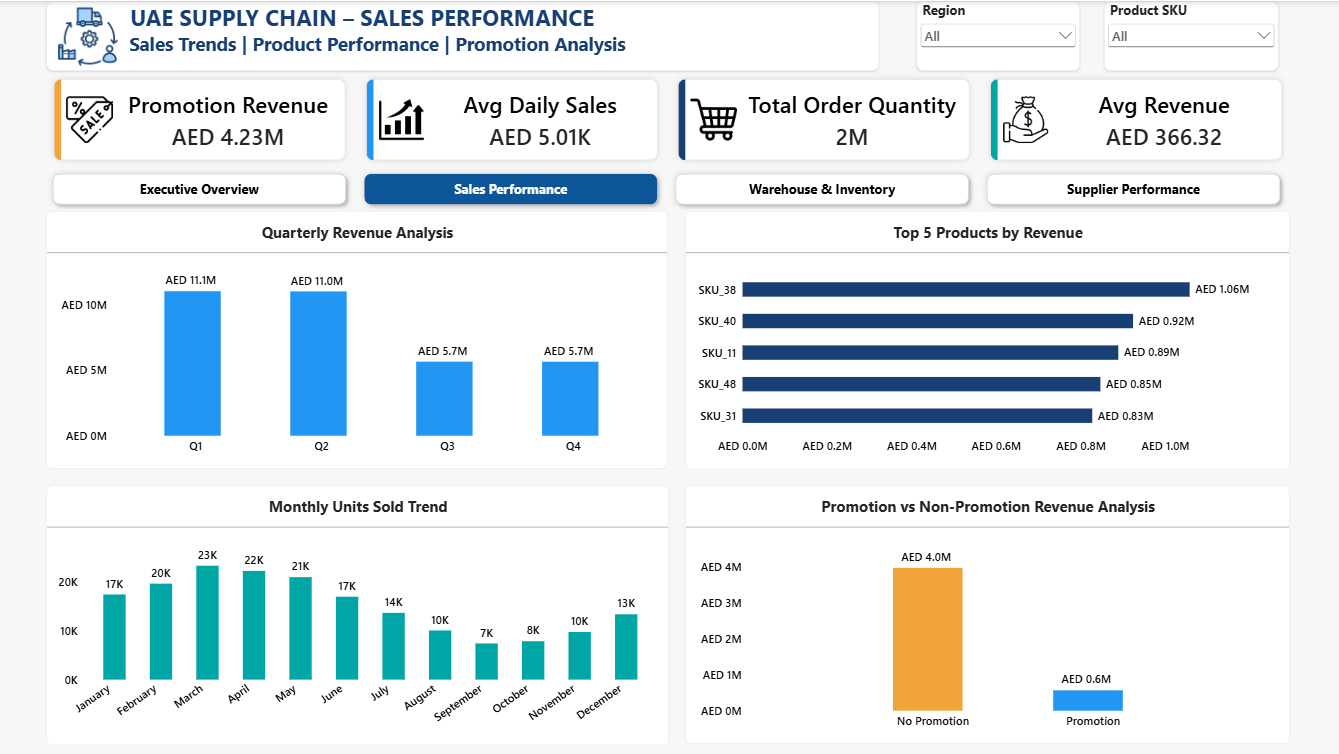

What the dashboard file says about the page in this screenshot:
{"tool":"powerbi","page":{"name":"Sales Performance","canvas":[1920,1080],"ordinal":1},"visuals":[{"type":"cardVisual","fields":{"Data":["#Measures.Promotion Revenue","#Measures.Average Daily Sales","#Measures.Total Order Quantity","#Measures.Average Revenue"]},"box":[65.9,99.9,1780.7,138.5],"z":0},{"type":"textbox","box":[65.9,0,1192.4,99.9],"z":1000},{"type":"pageNavigator","box":[66.8,238.6,1779.9,62],"z":2000},{"type":"clusteredColumnChart","title":"Quarterly Revenue Analysis","fields":{"Category":["supply_chain.Quarter Label"],"Y":["#Measures.Total Revenue"]},"box":[66.6,300.8,889.5,369.6],"z":3000},{"type":"clusteredBarChart","title":"Top 5 Products by Revenue","fields":{"Category":["public supply_chain.sku_id"],"Y":["#Measures.Total Revenue"]},"box":[981.2,299.8,865.4,370.2],"z":4000},{"type":"clusteredColumnChart","title":"Monthly Units Sold Trend","fields":{"Category":["public supply_chain.month_name"],"Y":["#Measures.Total Units Sold"]},"box":[66.6,694,891.7,371.7],"z":5000},{"type":"clusteredColumnChart","title":"Promotion vs Non-Promotion Revenue Analysis","fields":{"Category":["public supply_chain.Promotion Status"],"Y":["#Measures.Total Revenue"]},"box":[981.2,695,865.4,370.2],"z":6000},{"type":"slicer","title":"Product","fields":{"Values":["public supply_chain.sku_id"]},"box":[1580.8,0,249.8,99.9],"z":7000},{"type":"slicer","fields":{"Values":["public supply_chain.Region"]},"box":[1312.8,0,233.9,99.9],"z":8000},{"type":"image","box":[81.8,0,88.6,102.2],"z":8001}]}

Visuals, with their boxes in screenshot pixels (x1, y1, x2, y2), scaled from the page's 1920x1080 canvas onto the 1339x754 screenshot:
cardVisual - #Measures.Promotion Revenue x #Measures.Average Daily Sales: {"x1": 46, "y1": 70, "x2": 1288, "y2": 166}
textbox: {"x1": 46, "y1": 0, "x2": 878, "y2": 70}
pageNavigator: {"x1": 47, "y1": 167, "x2": 1288, "y2": 210}
"Quarterly Revenue Analysis" clusteredColumnChart: {"x1": 46, "y1": 210, "x2": 667, "y2": 468}
"Top 5 Products by Revenue" clusteredBarChart: {"x1": 684, "y1": 209, "x2": 1288, "y2": 468}
"Monthly Units Sold Trend" clusteredColumnChart: {"x1": 46, "y1": 485, "x2": 668, "y2": 744}
"Promotion vs Non-Promotion Revenue Analysis" clusteredColumnChart: {"x1": 684, "y1": 485, "x2": 1288, "y2": 744}
"Product" slicer: {"x1": 1102, "y1": 0, "x2": 1277, "y2": 70}
slicer - public supply_chain.Region: {"x1": 916, "y1": 0, "x2": 1079, "y2": 70}
image: {"x1": 57, "y1": 0, "x2": 119, "y2": 71}
